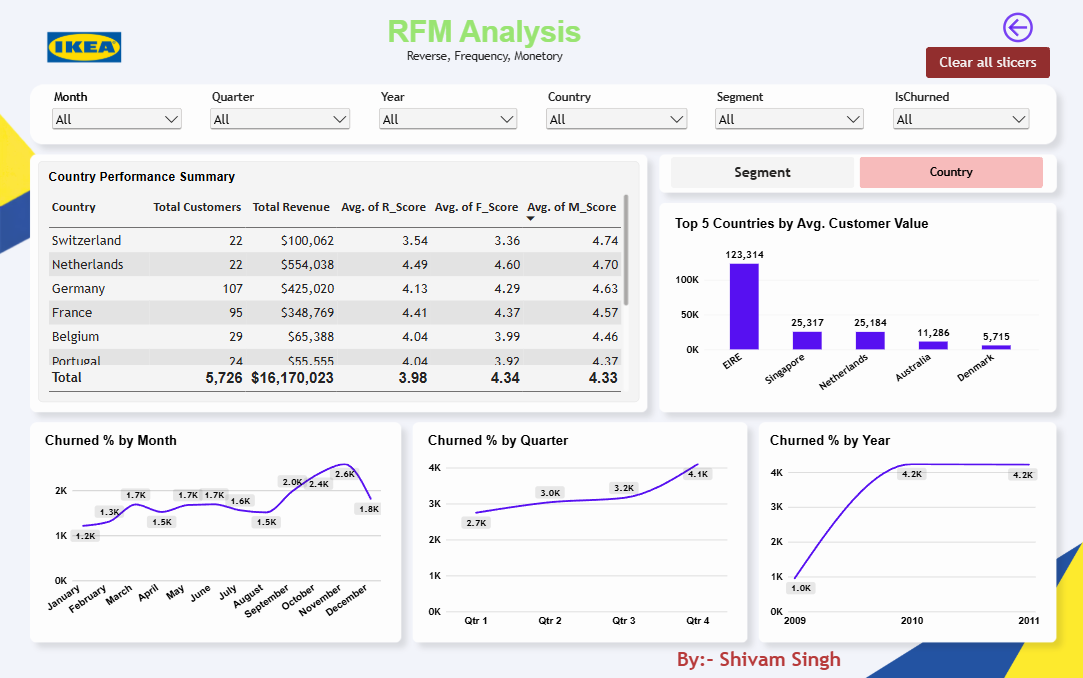

The page's visual inventory and layout, read from the dashboard file:
{"tool":"powerbi","page":{"name":"REM Analysis","canvas":[1750,1100],"ordinal":2},"visuals":[{"type":"slicer","fields":{"Values":["Sheet1.InvoiceDate.Variation.Date Hierarchy.Month"]},"box":[80.7,147.8,219.4,77.7],"z":0,"group":"g1"},{"type":"bookmarkNavigator","box":[1084.2,254.7,600,50],"z":0},{"type":"pivotTable","title":"Country Performance Summary","fields":{"Rows":["Sheet1.Country"],"Values":["Sheet1.Total Customers","Sheet1.Total Revenue","Avg(Sheet1.R_Score)","Avg(Sheet1.F_Score)","Avg(Sheet1.M_Score)"]},"box":[63,260.5,969.9,389.3],"z":0,"group":"g2"},{"type":"slicer","fields":{"Values":["Sheet1.InvoiceMonth.Variation.Date Hierarchy.Quarter"]},"box":[336,147.8,236.1,77.7],"z":1000,"group":"g1"},{"type":"columnChart","title":"Top 5 Countries by Avg. Customer Value","fields":{"Category":["Sheet1.Country"],"Y":["Sheet1.Avg Customer Value"]},"box":[1074.5,336.9,618.6,326],"z":1000,"group":"g2"},{"type":"textbox","box":[1069.5,1045.2,312.3,42.7],"z":1000},{"type":"image","box":[57.9,25.9,158.4,103.6],"z":2000},{"type":"slicer","fields":{"Values":["Sheet1.InvoiceDate.Variation.Date Hierarchy.Year"]},"box":[608.2,147.8,233.1,77.7],"z":2000,"group":"g1"},{"type":"lineChart","title":"Churned % by Month","fields":{"Category":["Sheet1.InvoiceMonth.Variation.Date Hierarchy.Year","Sheet1.InvoiceMonth.Variation.Date Hierarchy.Quarter","Sheet1.InvoiceMonth.Variation.Date Hierarchy.Month"],"Y":["Sheet1.Total Customers"]},"box":[57.9,685.6,574.4,342.8],"z":2000,"group":"g2"},{"type":"textbox","box":[496.6,25.5,573,101.9],"z":3000},{"type":"slicer","fields":{"Values":["Sheet1.Country"]},"box":[877.2,147.8,237.7,77.7],"z":3000,"group":"g1"},{"type":"lineChart","title":"Churned % by Quarter","fields":{"Category":["Sheet1.InvoiceMonth.Variation.Date Hierarchy.Quarter"],"Y":["Sheet1.Total Customers"]},"box":[674.9,685.6,515,342.8],"z":3000,"group":"g2"},{"type":"actionButton","box":[1593.6,12.2,100.6,65.5],"z":4000},{"type":"slicer","fields":{"Values":["Sheet1.Segment"]},"box":[1150.8,147.8,249.9,77.7],"z":4000,"group":"g1"},{"type":"group","id":"g1","title":"Slicer","box":[80.7,77.7,1613.9,147.8],"z":5000},{"type":"slicer","fields":{"Values":["Sheet1.IsChurned"]},"box":[1436.7,147.8,230.1,77.7],"z":5000,"group":"g1"},{"type":"lineChart","title":"Churned % by Year","fields":{"Category":["Sheet1.InvoiceMonth.Variation.Date Hierarchy.Year"],"Y":["Sheet1.Total Customers"]},"box":[1226.5,685.6,467.7,342.8],"z":5000,"group":"g2"},{"type":"actionButton","box":[1494.6,77.7,200,50],"z":6000,"group":"g1"},{"type":"group","id":"g2","title":"Country","box":[57.9,260.5,1636.3,767.9],"z":6000}]}

Visuals, with their boxes in screenshot pixels (x1, y1, x2, y2), scaled from the page's 1750x1100 canvas onto the 1083x678 screenshot:
slicer - Sheet1.InvoiceDate.Variation.Date Hierarchy.Month: x1=50 y1=91 x2=186 y2=139
bookmarkNavigator: x1=671 y1=157 x2=1042 y2=188
"Country Performance Summary" pivotTable: x1=39 y1=161 x2=639 y2=401
slicer - Sheet1.InvoiceMonth.Variation.Date Hierarchy.Quarter: x1=208 y1=91 x2=354 y2=139
"Top 5 Countries by Avg. Customer Value" columnChart: x1=665 y1=208 x2=1048 y2=409
textbox: x1=662 y1=644 x2=855 y2=671
image: x1=36 y1=16 x2=134 y2=80
slicer - Sheet1.InvoiceDate.Variation.Date Hierarchy.Year: x1=376 y1=91 x2=521 y2=139
"Churned % by Month" lineChart: x1=36 y1=423 x2=391 y2=634
textbox: x1=307 y1=16 x2=662 y2=79
slicer - Sheet1.Country: x1=543 y1=91 x2=690 y2=139
"Churned % by Quarter" lineChart: x1=418 y1=423 x2=736 y2=634
actionButton: x1=986 y1=8 x2=1048 y2=48
slicer - Sheet1.Segment: x1=712 y1=91 x2=867 y2=139
"Slicer" group: x1=50 y1=48 x2=1049 y2=139
slicer - Sheet1.IsChurned: x1=889 y1=91 x2=1032 y2=139
"Churned % by Year" lineChart: x1=759 y1=423 x2=1048 y2=634
actionButton: x1=925 y1=48 x2=1049 y2=79
"Country" group: x1=36 y1=161 x2=1048 y2=634
